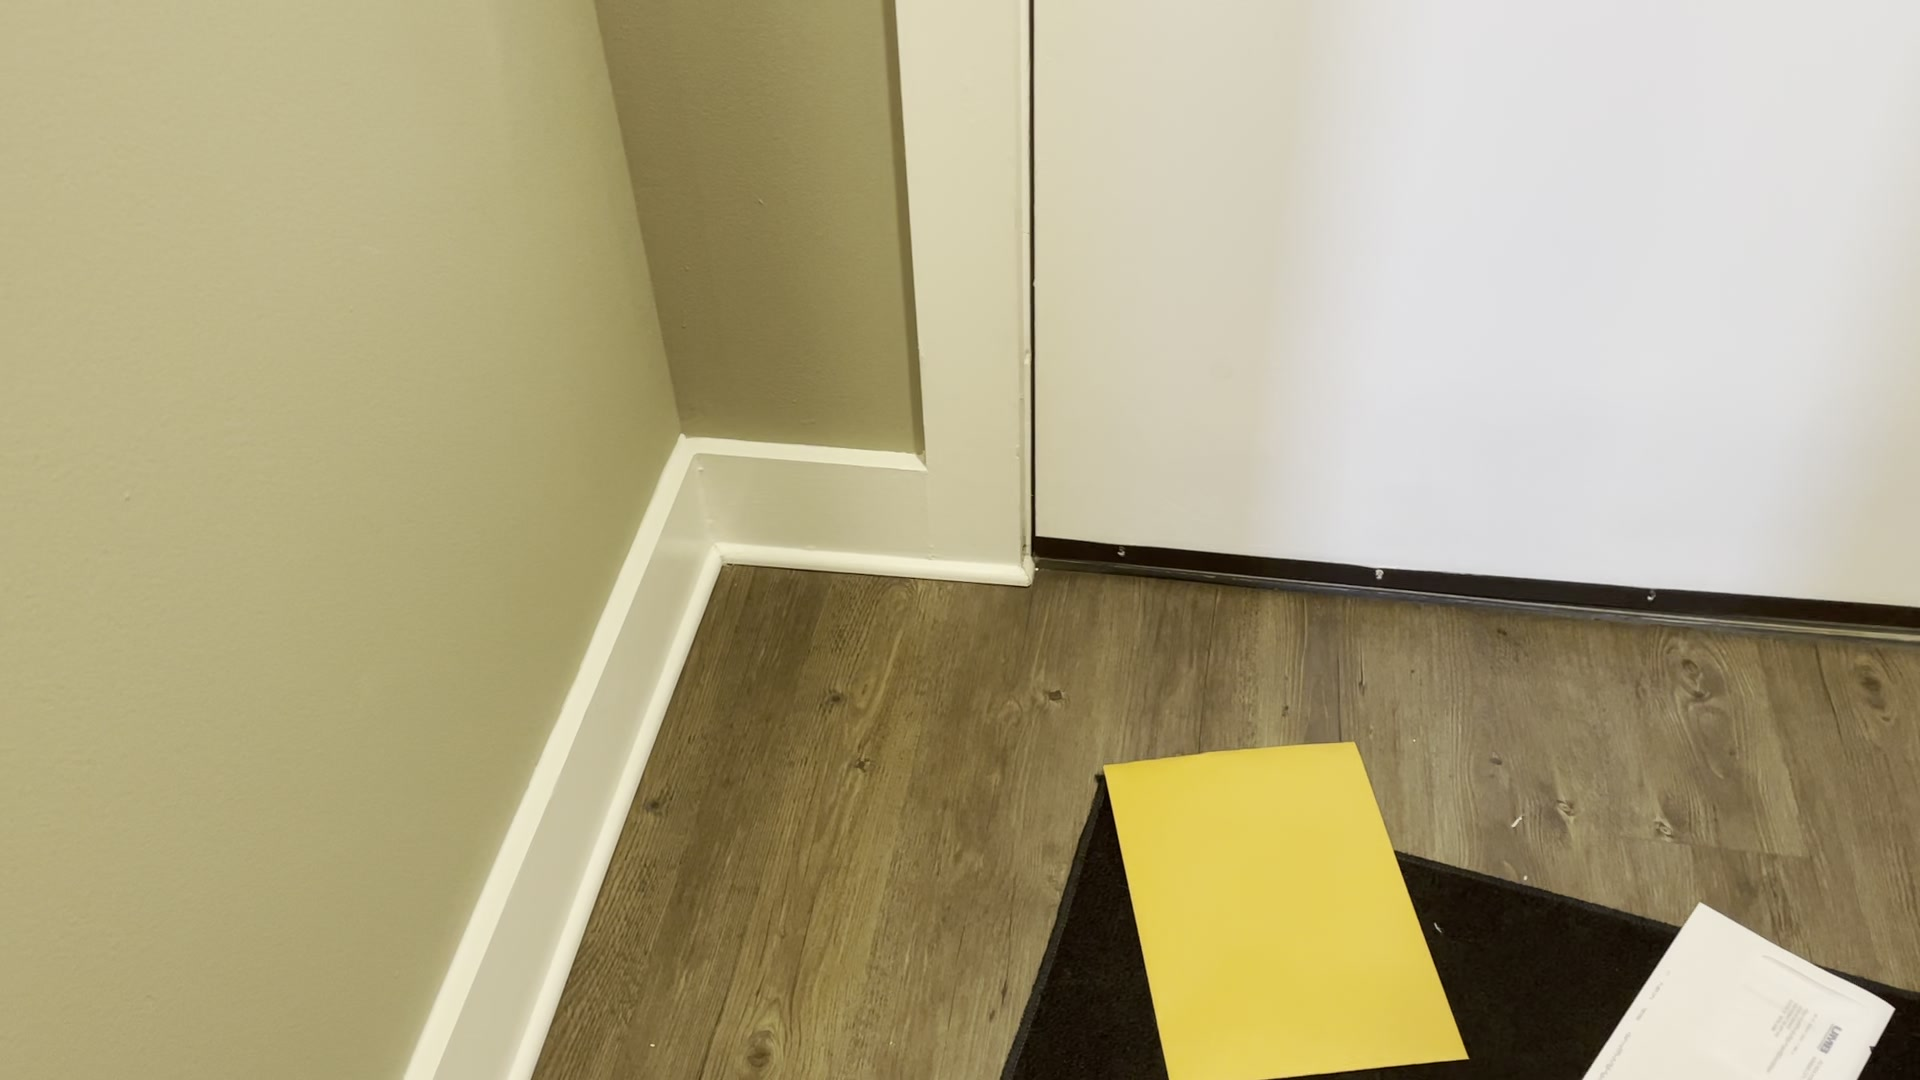envelope: (1079, 723, 1468, 1080), (1571, 891, 1900, 1080)
